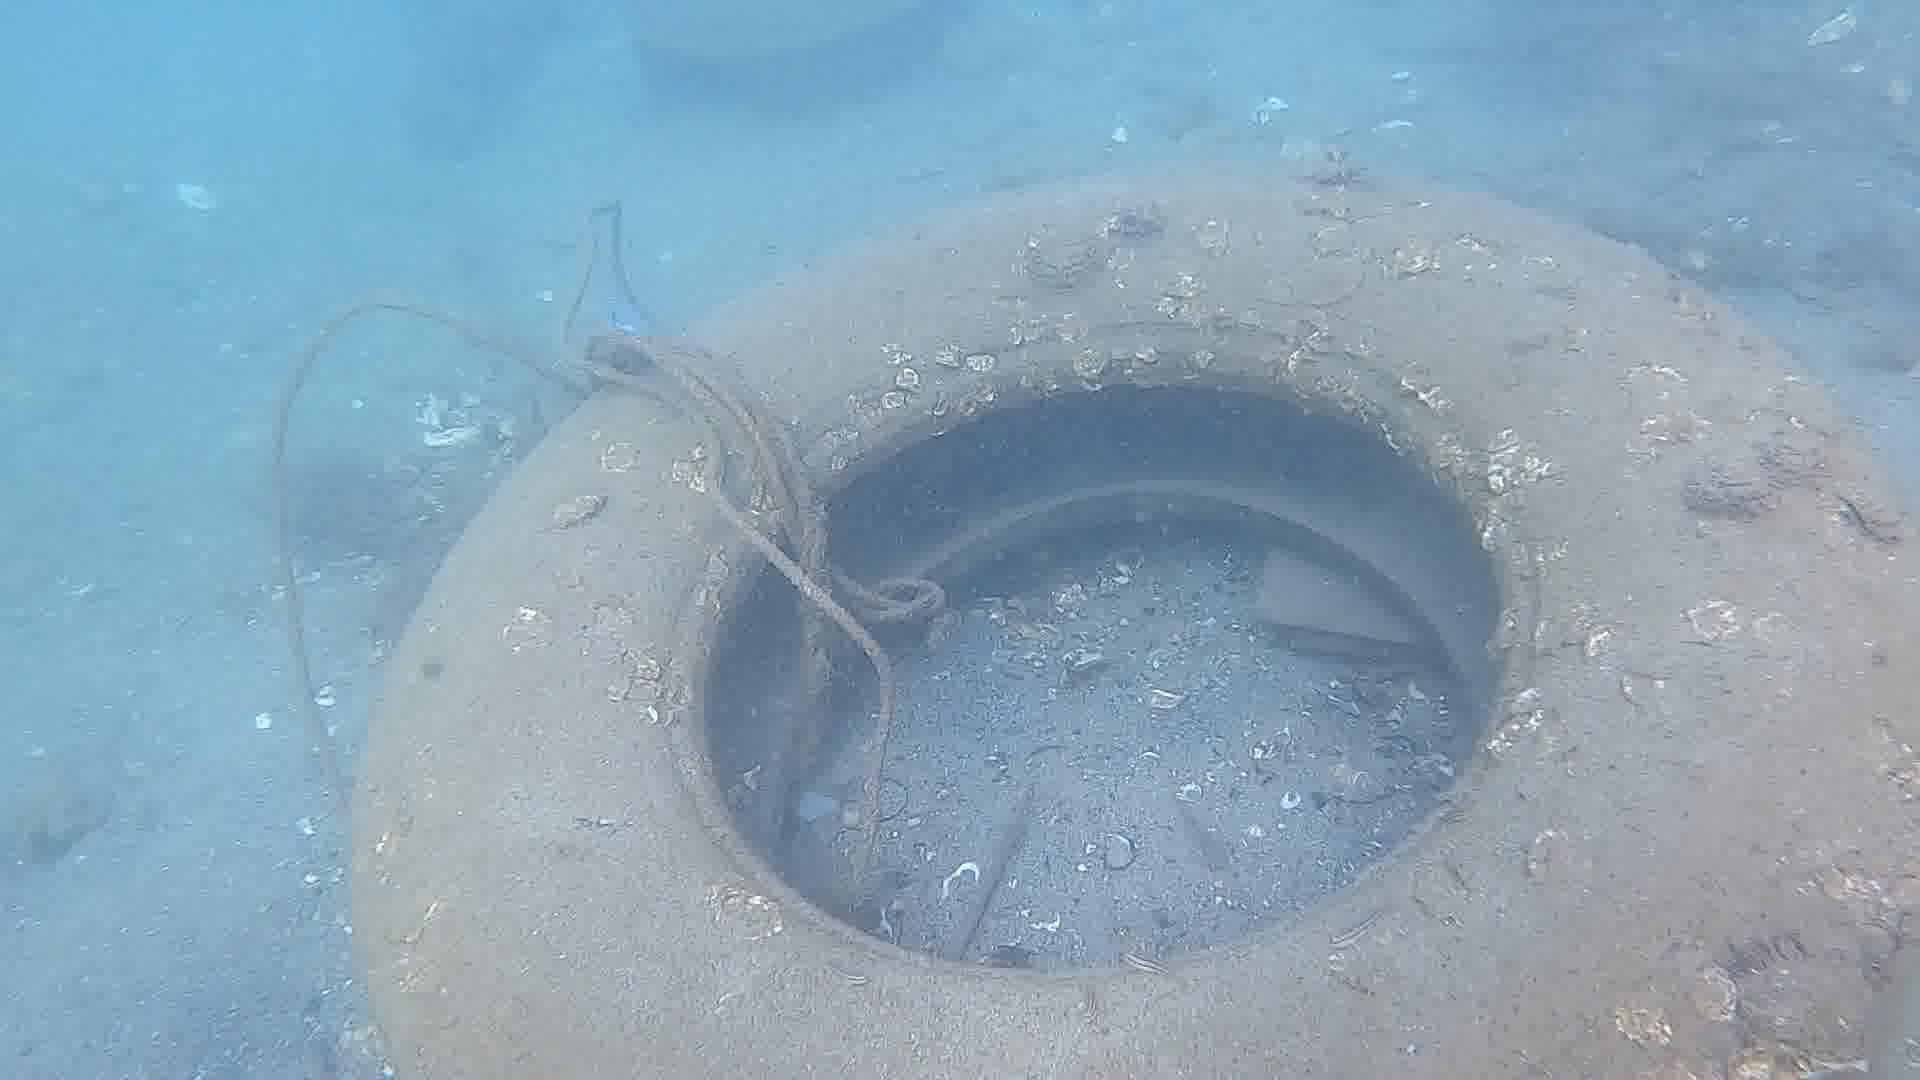bundle of ropes: (266, 195, 948, 793)
tire: (345, 169, 1920, 1080)
